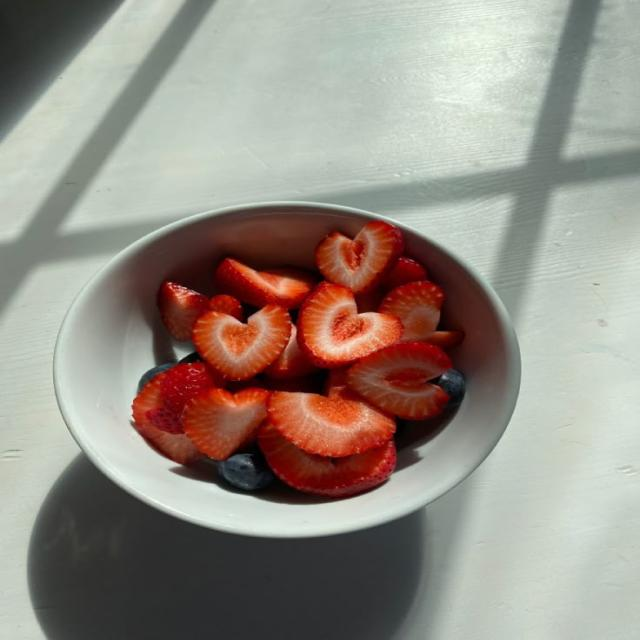strawberry sliced: (259, 423, 396, 497), (298, 283, 403, 367), (267, 392, 395, 457), (348, 343, 452, 419), (193, 305, 292, 380), (133, 372, 203, 463), (315, 221, 403, 293), (182, 389, 268, 460), (215, 258, 318, 308), (380, 281, 444, 341), (161, 363, 226, 417), (158, 282, 208, 341), (265, 325, 317, 379), (381, 257, 427, 291), (324, 367, 366, 402), (263, 371, 325, 393), (147, 407, 183, 433), (209, 295, 243, 321), (355, 288, 385, 313), (426, 331, 464, 349), (225, 377, 266, 393)
